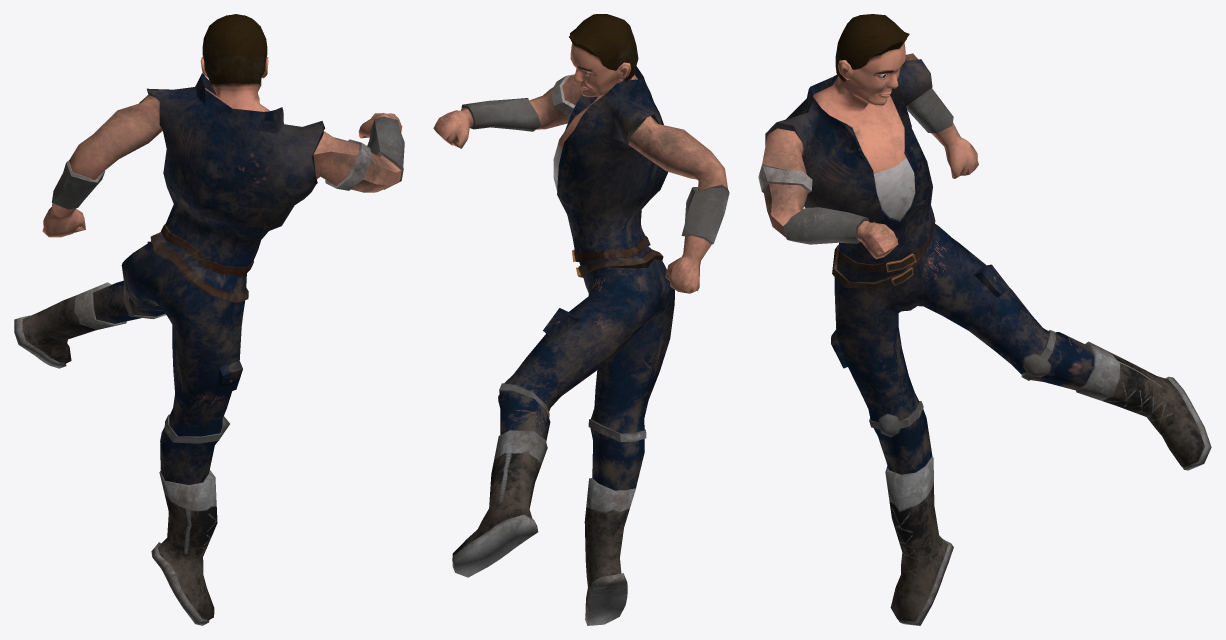
The model's file is Anim_ataque_f2_jugador.0027.obj.
3 renders of one model, left to right at view 1: azimuth 30°, elevation 25°; view 2: azimuth 150°, elevation 25°; view 3: azimuth 270°, elevation 25°, orthographic. The views are drawn at different scales.
Visible parts, largest first — view 1: polySurface1; view 2: polySurface1; view 3: polySurface1.
Boxes of the visible parts, x1,y1,x2,y2 form: polySurface1: (14,14,404,625); polySurface1: (433,14,729,625); polySurface1: (758,14,1211,625).
Size of the model in its own units: 5.61 by 10.31 by 6.88.
